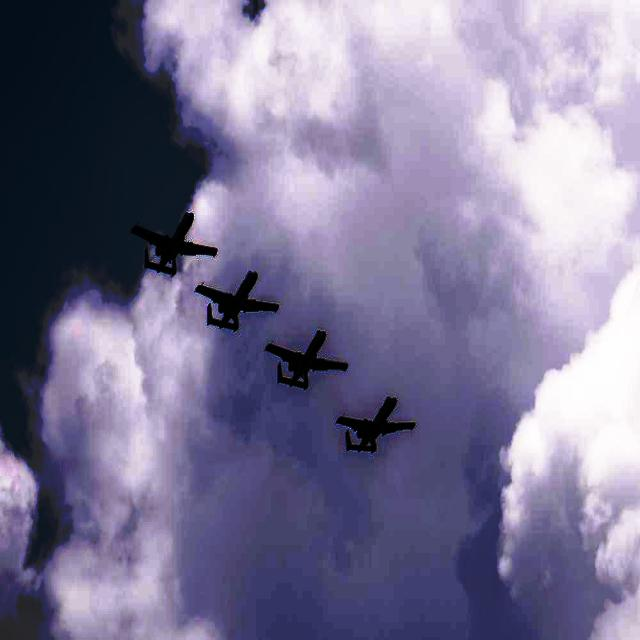Aircraft: (127, 206, 219, 280), (262, 322, 352, 394), (192, 267, 282, 335), (333, 392, 416, 458)
